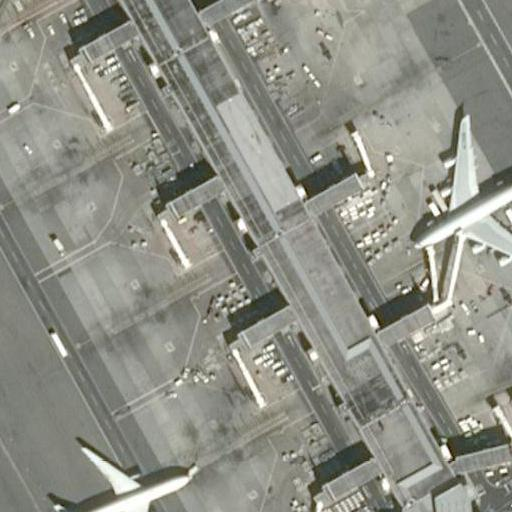Aircraft: (393, 110, 512, 280), (41, 437, 193, 512)
